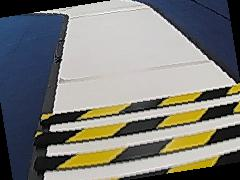bump: (34, 84, 239, 174)
